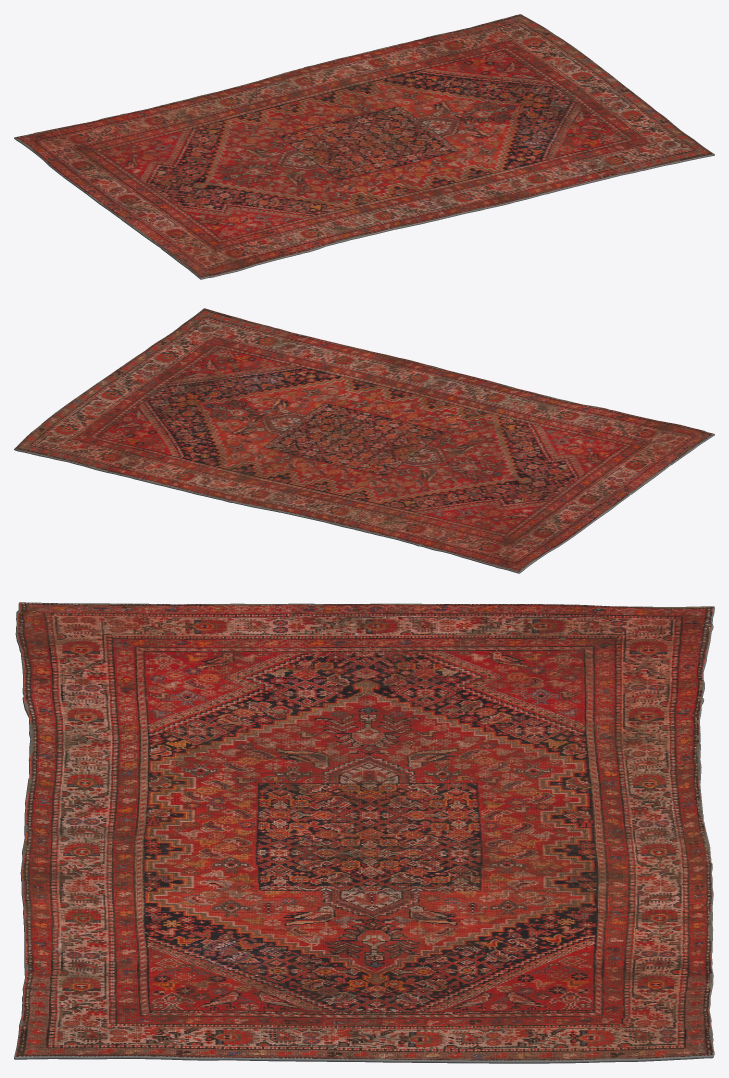
The model's file is Prop_Rug.fbx.
3 renders of one model, top to bottom at view 1: azimuth 30°, elevation 25°; view 2: azimuth 150°, elevation 25°; view 3: azimuth 270°, elevation 25°, orthographic. The views are drawn at different scales.
Visible parts, largest first — view 1: Prop_Rug; view 2: Prop_Rug; view 3: Prop_Rug.
Part boxes in pixels (left/top/right/bottom): Prop_Rug: left=14, top=14, right=714, bottom=279; Prop_Rug: left=14, top=308, right=714, bottom=573; Prop_Rug: left=14, top=602, right=714, bottom=1063.
Size of the model in its own units: 192 by 0.5251 by 124.
